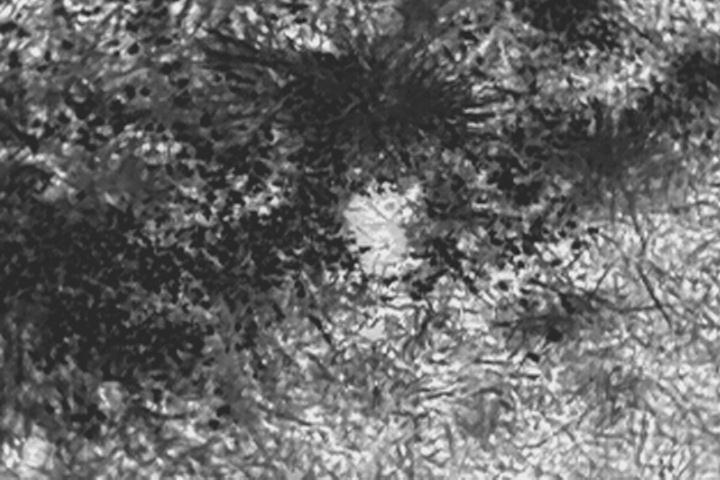landmine: (340, 170, 447, 278)
